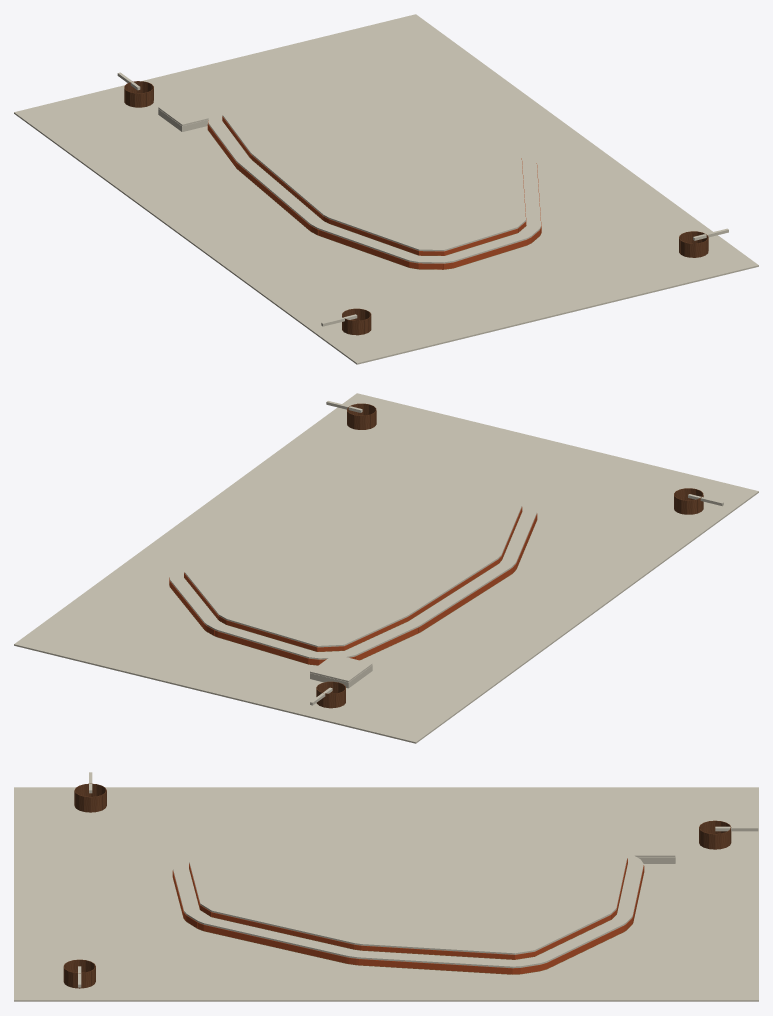
Rendered from AST-AQU-012.glb.
3 views of the same model, one above another, from view 1: azimuth 30°, elevation 25°; view 2: azimuth 150°, elevation 25°; view 3: azimuth 270°, elevation 25° (orthographic). The views are drawn at different scales.
Visible parts, largest first — view 1: AQU_Ceiling_ivory_enamel, AQU_Ceiling_terracotta, AQU_Ceiling_warm_walnut, AQU_Ceiling_champagne_metal; view 2: AQU_Ceiling_ivory_enamel, AQU_Ceiling_terracotta, AQU_Ceiling_warm_walnut, AQU_Ceiling_champagne_metal; view 3: AQU_Ceiling_ivory_enamel, AQU_Ceiling_terracotta, AQU_Ceiling_warm_walnut, AQU_Ceiling_champagne_metal.
Part boxes in pixels (x1,y1,x2,y2): AQU_Ceiling_ivory_enamel: (14, 14, 758, 364); AQU_Ceiling_terracotta: (207, 116, 541, 269); AQU_Ceiling_warm_walnut: (124, 81, 708, 335); AQU_Ceiling_champagne_metal: (208, 121, 541, 269); AQU_Ceiling_ivory_enamel: (14, 393, 758, 743); AQU_Ceiling_terracotta: (169, 507, 537, 665); AQU_Ceiling_warm_walnut: (316, 403, 703, 708); AQU_Ceiling_champagne_metal: (169, 511, 537, 665); AQU_Ceiling_ivory_enamel: (14, 772, 758, 1001); AQU_Ceiling_terracotta: (172, 858, 644, 974); AQU_Ceiling_warm_walnut: (63, 783, 731, 988); AQU_Ceiling_champagne_metal: (172, 863, 644, 974).
Size of the model in its own units: 46 by 1.86 by 68.
5 materials, 4 textured.
